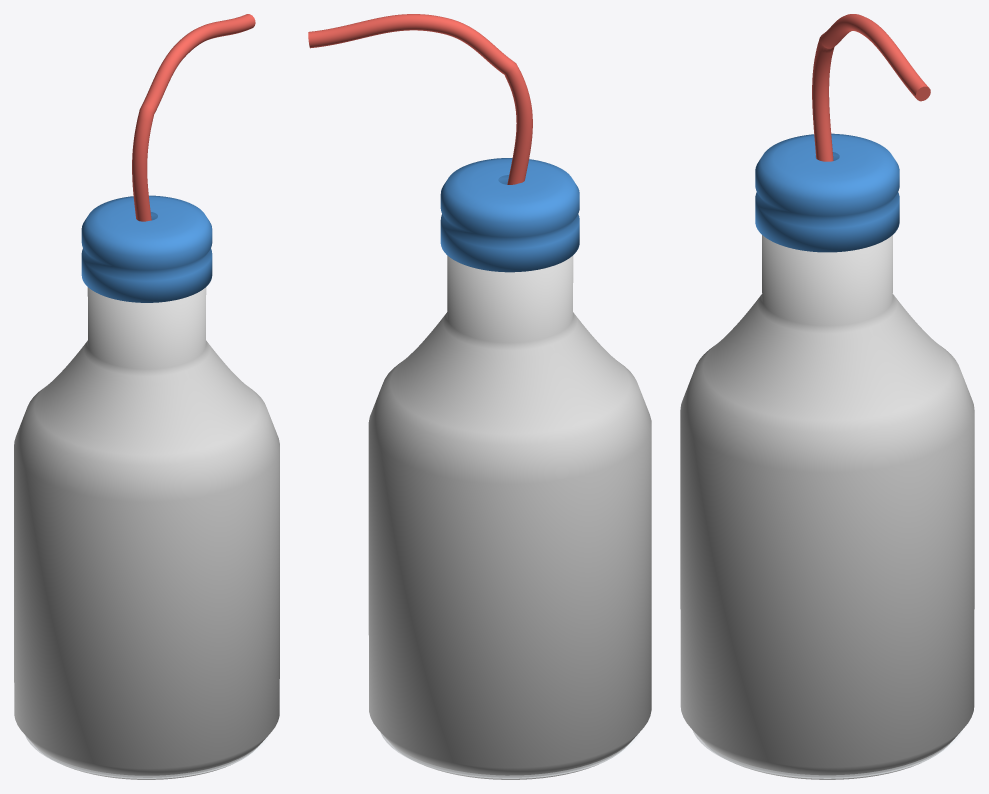
File: Aquades.fbx
The picture shows the model from 3 angles, left to right: view 1: azimuth 30°, elevation 25°; view 2: azimuth 150°, elevation 25°; view 3: azimuth 270°, elevation 25°; orthographic projection. The views are drawn at different scales.
Visible parts, largest first — view 1: Botol_Semprot, Tutup_Botol, Pipa_Melengkung, Cairan_Akuades; view 2: Botol_Semprot, Tutup_Botol, Pipa_Melengkung, Cairan_Akuades; view 3: Botol_Semprot, Tutup_Botol, Pipa_Melengkung, Cairan_Akuades.
Part boxes in pixels (x1,y1,x2,y2): Botol_Semprot: (14, 287, 279, 779); Tutup_Botol: (81, 195, 212, 302); Pipa_Melengkung: (132, 14, 255, 221); Cairan_Akuades: (25, 735, 268, 778); Botol_Semprot: (368, 255, 651, 779); Tutup_Botol: (440, 158, 579, 272); Pipa_Melengkung: (308, 14, 532, 184); Cairan_Akuades: (380, 732, 639, 778); Botol_Semprot: (680, 235, 974, 779); Tutup_Botol: (755, 133, 899, 252); Pipa_Melengkung: (812, 14, 930, 161); Cairan_Akuades: (693, 731, 961, 778).
Bounding box in the file's own units: 177 × 434 × 155.
